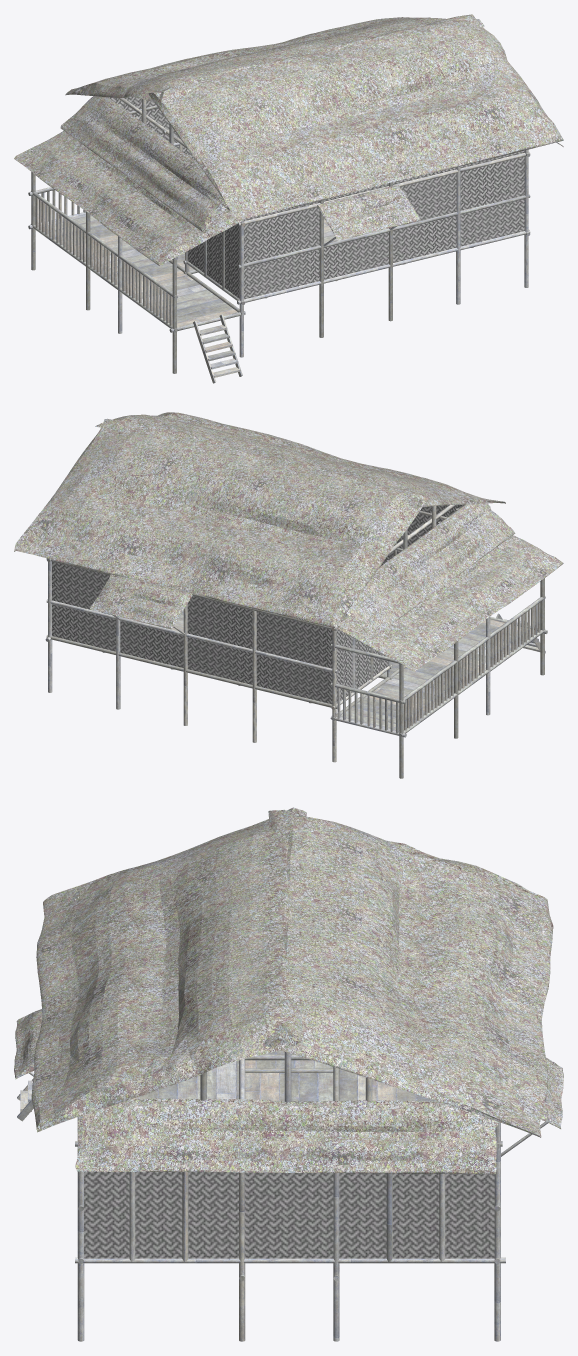
The picture shows the model from 3 angles, top to bottom: view 1: azimuth 30°, elevation 25°; view 2: azimuth 150°, elevation 25°; view 3: azimuth 270°, elevation 25°; orthographic projection. The views are drawn at different scales.
Parts seen in each view (by area): view 1: 4; view 2: 4; view 3: 4.
Part boxes in pixels (x1,y1,x2,y2): 4: [14, 14, 563, 383]; 4: [14, 412, 563, 778]; 4: [14, 807, 563, 1341].
Bounding box in the file's own units: 35.85 × 18.49 × 28.31.
6 materials, 6 textured.
